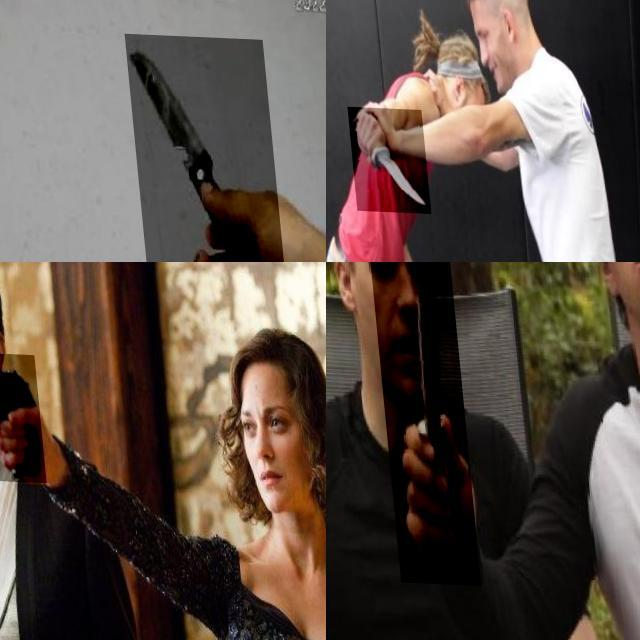-: (123, 30, 283, 262), (363, 262, 471, 583), (344, 105, 426, 211)
gun-knife-thesis - v11 Yolov5 augmented: (0, 350, 48, 480)
